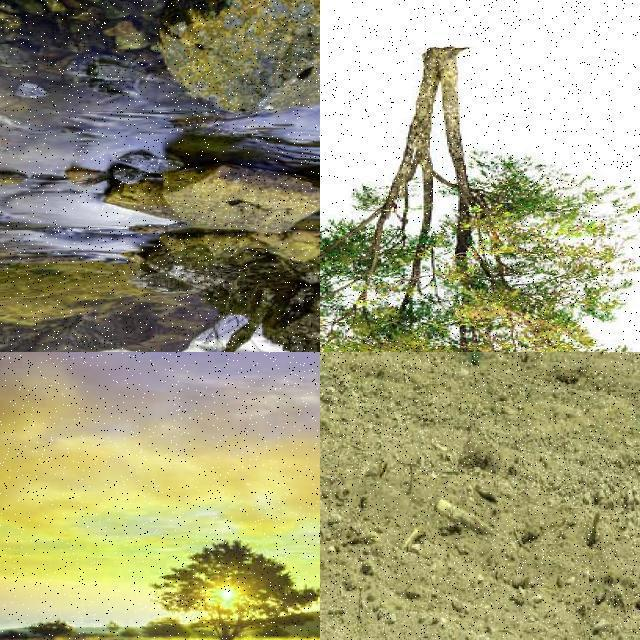tree: (320, 44, 640, 352), (156, 540, 320, 640), (320, 352, 372, 476)
